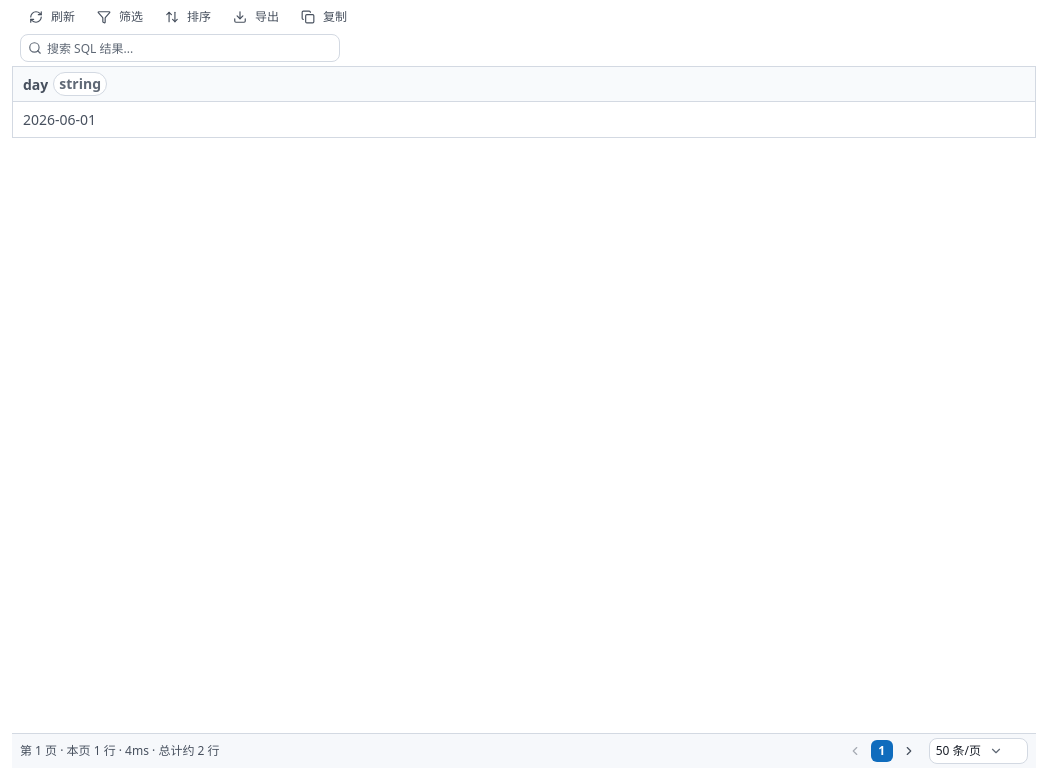
Scenario: TableArtifactView › preserves old table content and discloses safe Problem Details metadata after a page failure
Expected: the text "2026-06-01" is shown, [23,109,96,130]
Click the button named "下一页" at (909, 751), box [897,739,921,763]
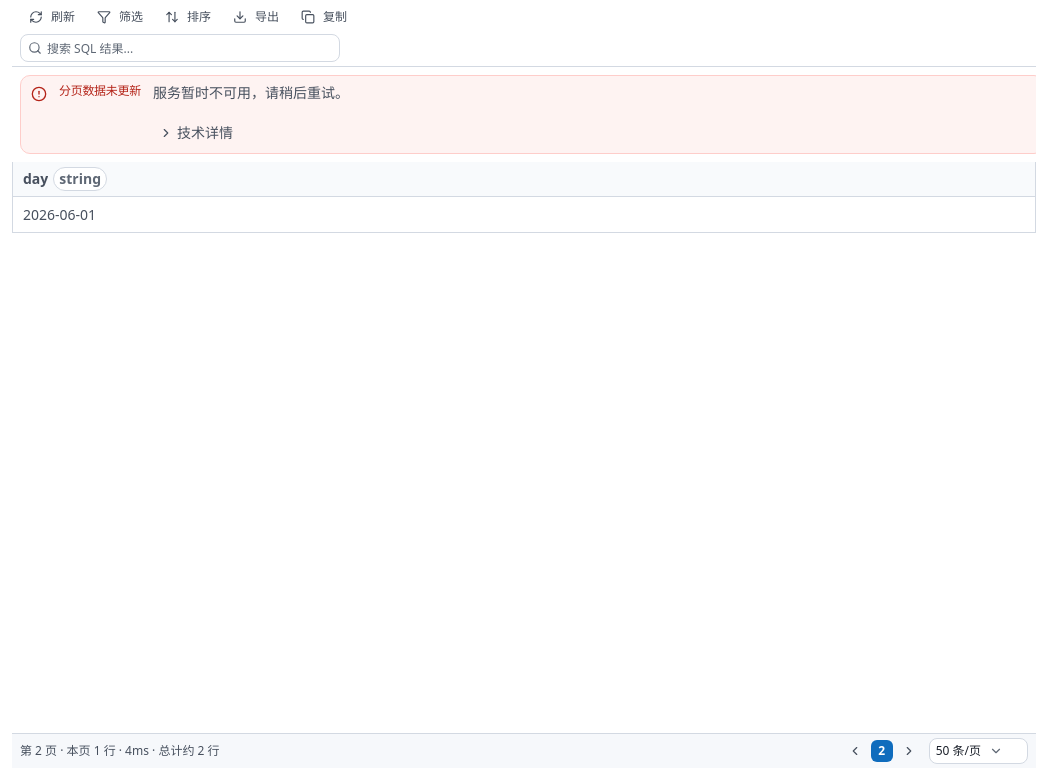
Expected: the text "2026-06-01" is shown, [23,204,96,225]
Expected: the text "分页数据未更新" is shown, [59,82,141,99]
Click the heading "技术详情" at (196, 133), box [153,119,239,147]
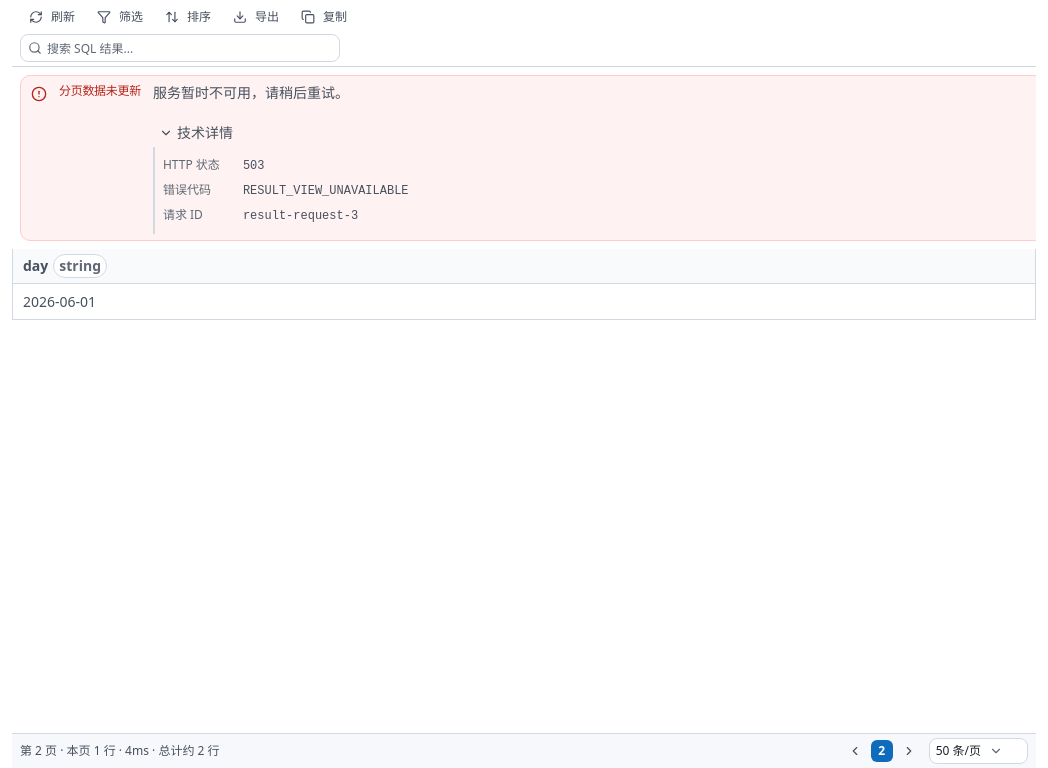
Expected: the text "RESULT_VIEW_UNAVAILABLE" is shown, [243,184,408,198]
Expected: the text "result-request-3" is shown, [243,209,358,223]
